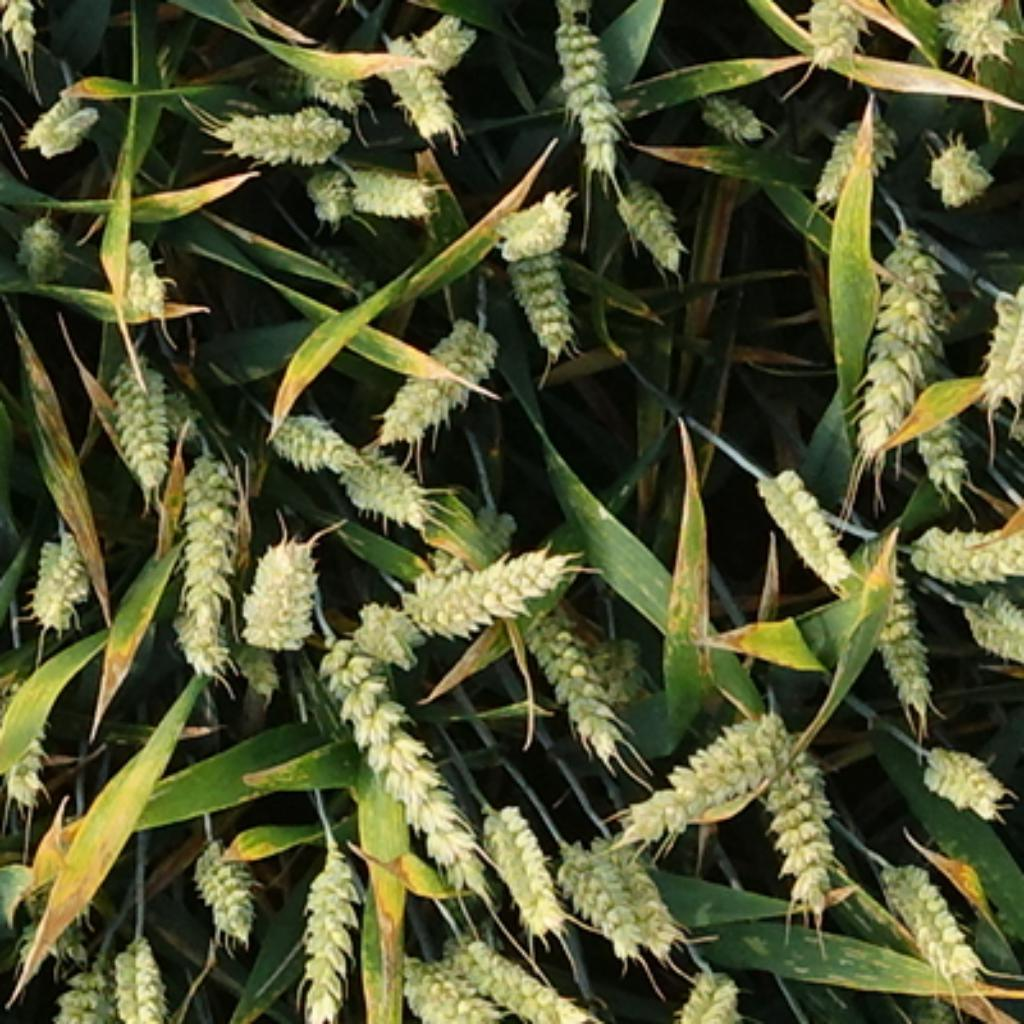0-0: (309, 629, 476, 865), (844, 217, 960, 445), (624, 696, 793, 842), (509, 593, 647, 747), (396, 532, 573, 632), (750, 724, 847, 906), (867, 842, 983, 985), (373, 320, 504, 445), (166, 442, 248, 627), (440, 934, 604, 1024), (750, 450, 857, 583), (545, 0, 624, 163), (294, 834, 368, 1008), (586, 829, 688, 954), (98, 368, 190, 506), (555, 829, 642, 967), (476, 788, 560, 926), (860, 555, 934, 704), (373, 29, 458, 156), (235, 527, 322, 645), (494, 230, 583, 345), (166, 535, 238, 670), (212, 94, 355, 161), (399, 934, 504, 1024), (19, 876, 94, 998), (327, 435, 430, 519), (912, 739, 1013, 822), (908, 512, 1021, 583), (806, 102, 888, 199), (184, 829, 261, 931), (606, 186, 686, 281), (25, 517, 97, 622), (263, 396, 363, 471), (432, 496, 522, 578), (98, 933, 178, 1024), (0, 683, 58, 806), (896, 396, 975, 481), (486, 184, 573, 256), (337, 156, 435, 217), (102, 227, 168, 314), (25, 76, 104, 148), (343, 591, 419, 665), (980, 286, 1021, 422), (921, 141, 995, 212), (46, 961, 125, 1024), (957, 591, 1024, 665), (279, 51, 358, 112), (401, 5, 476, 69), (670, 967, 751, 1024), (931, 0, 1013, 56), (796, 0, 872, 58), (10, 207, 71, 273), (691, 81, 762, 135), (299, 166, 358, 230), (0, 1, 42, 65)
